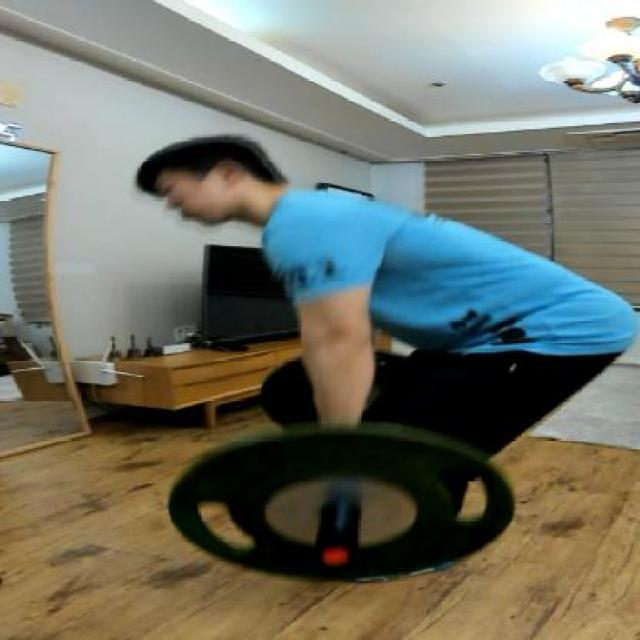Barbell: (296, 534, 370, 572)
